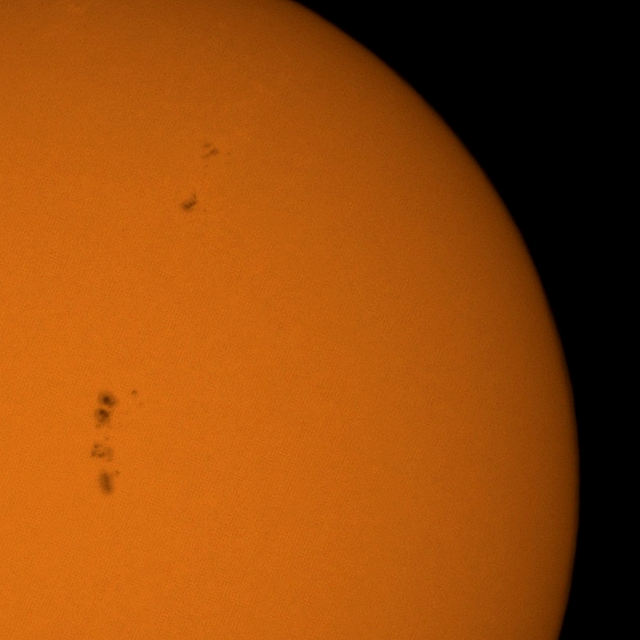sunspot: (200, 142, 221, 163), (181, 192, 200, 214)
